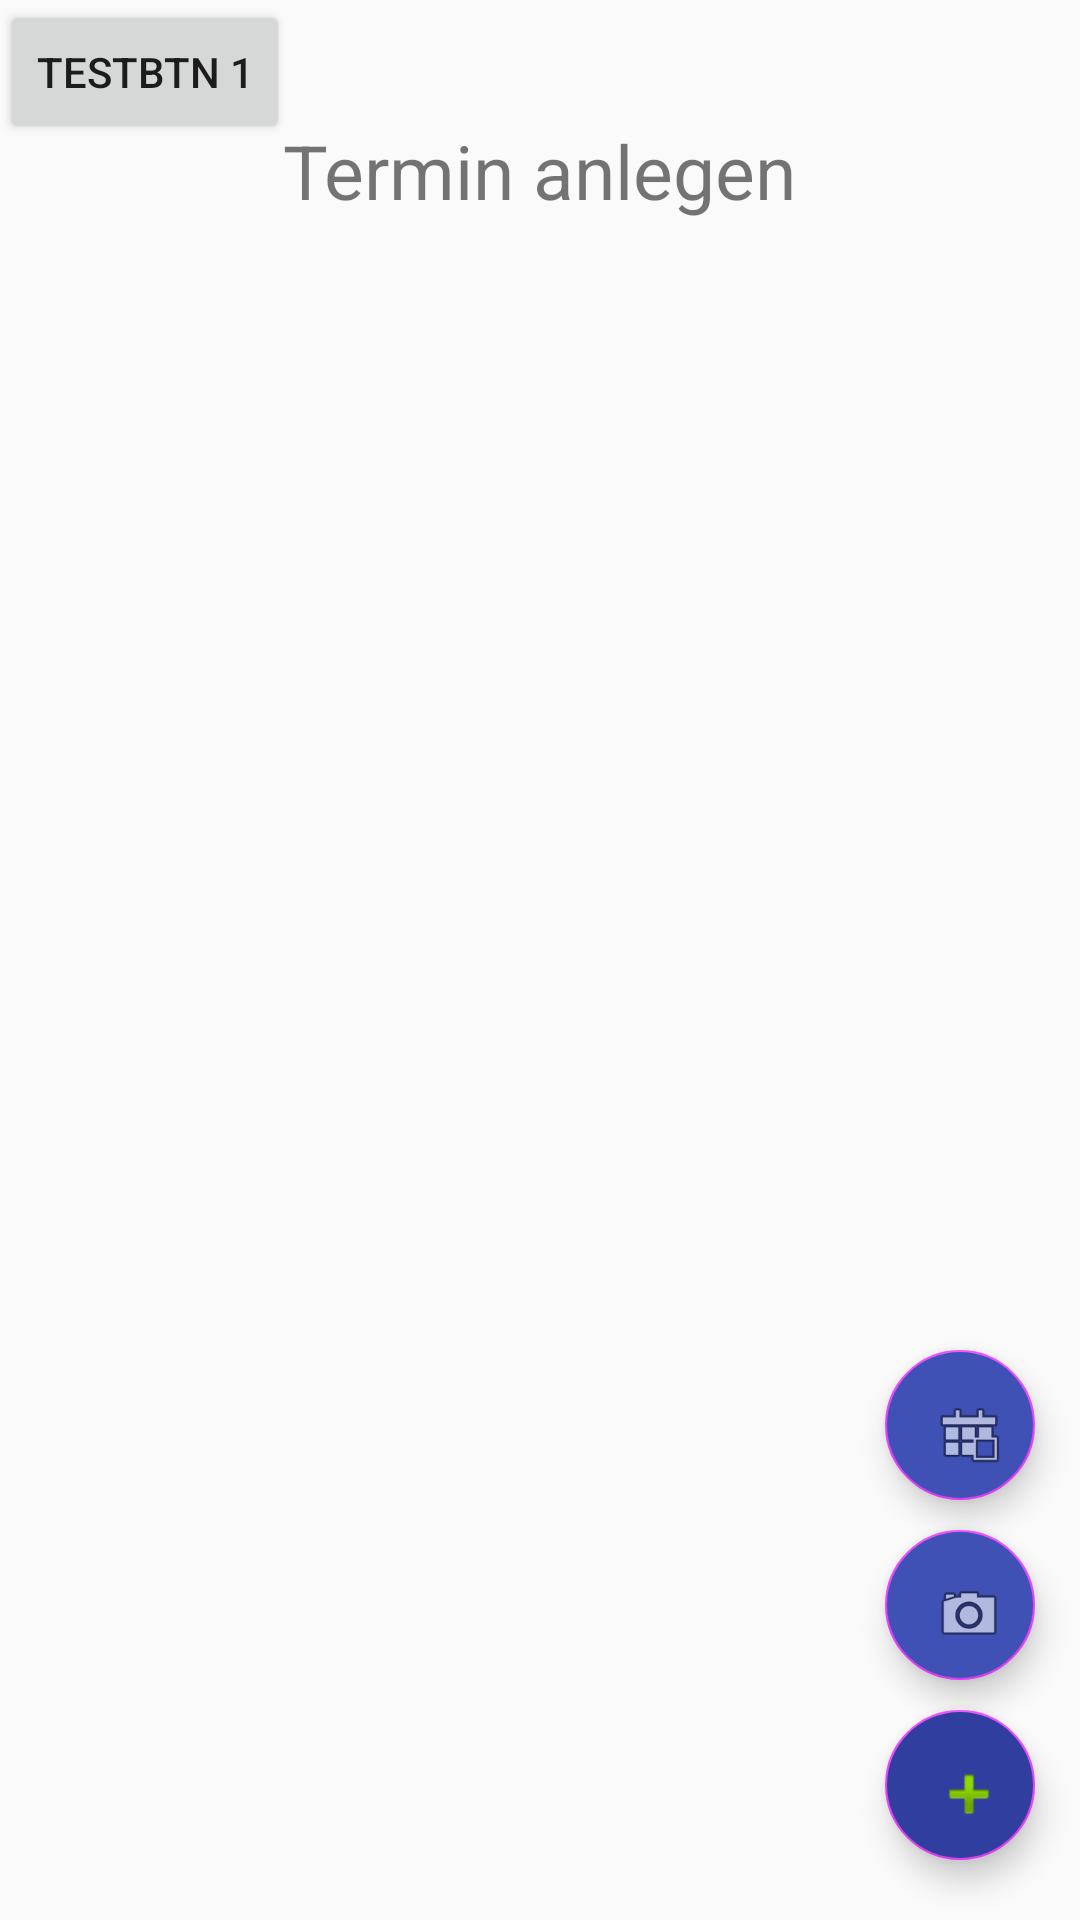

Icons on this 1080*1920 Android screen, each with its box as (left=x1, top=y1, right=x2, bottom=y2):
add: (left=885, top=1710, right=1035, bottom=1860)
camera: (left=885, top=1530, right=1035, bottom=1680)
today: (left=885, top=1350, right=1035, bottom=1500)
